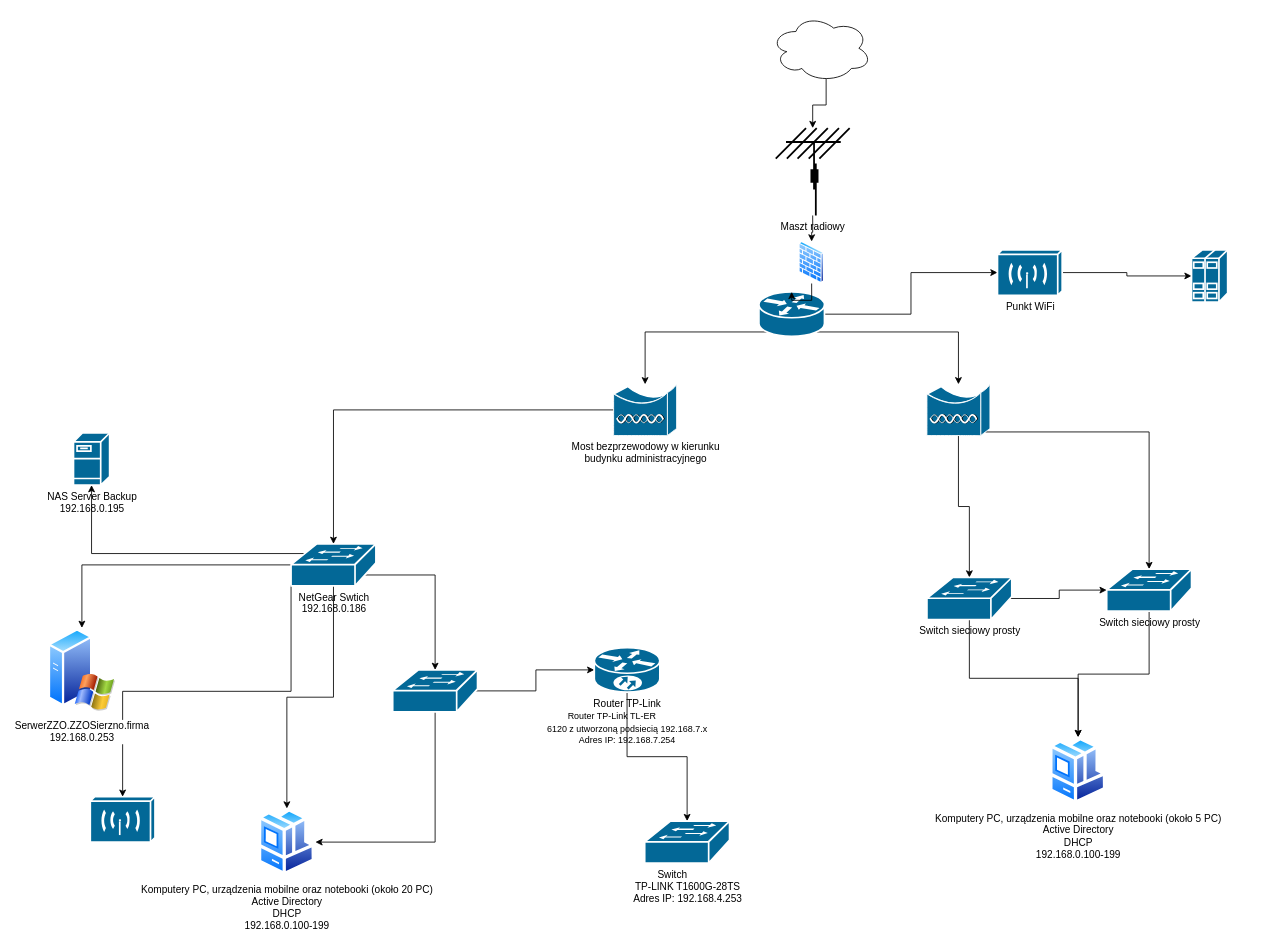
This 1283x948 diagram has some shape labels left out. The shapes that lost their labels are listed below. From the top down, each one's centre as x and y in pixels, then its label:
At (821,48): "Internet".
At (1209,275): "Sterowanie fotowolaticzne".
At (791,314): "Główny Router 192.168.0.99".
At (958,409): "Most bezprzewodowy w kierunku sterownii".
At (434,690): "PLANET Switch 192.168.0.100".
At (122,819): "Punkt AP (5 szt.) DHCP".
